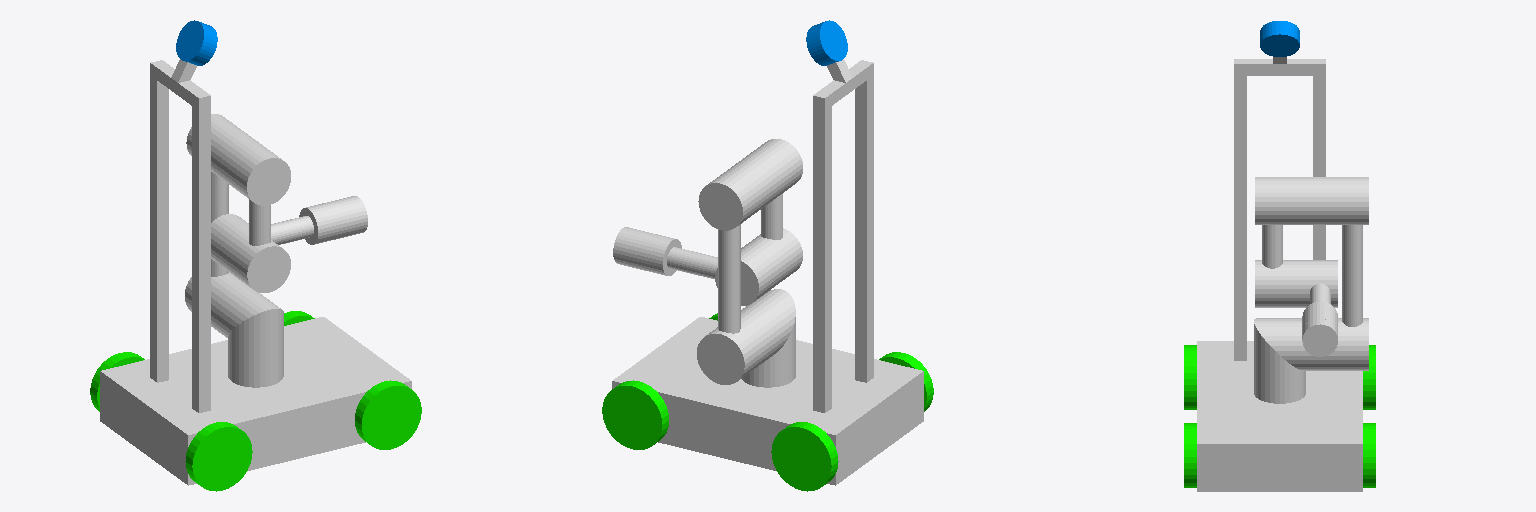
robot.urdf — roam:
<?xml version="1.0"?>
<robot name="roam">

  <material name="white">
    <color rgba="0.9 0.9 0.9 0.7"/>
  </material>

  <material name="blue">
    <color rgba="0 0.6 1 0.7"/>
  </material>

  <material name="red">
    <color rgba="1 0 0 0.7"/>
  </material>
  
  <material name="green">
    <color rgba="0.1 1 0 0.7"/>
  </material>
  
  <material name="black">
    <color rgba="0.05 0.09 0.11 0.7"/>
  </material>
  
  <!-- Base -->

  <link name="base_footprint" />

  <link name="base_link">
  	<inertial>
      <origin xyz="0 0 0.05" rpy="0 0 0" />
      <mass value="5"/>
      <inertia 
      	ixx="0.9013370" 
      	ixy="0.0" 
      	ixz="0.0" 
      	iyy="0.4405845"
      	iyz="0.0" 
      	izz="1.2618254"/>
    </inertial>
    <visual>
      <origin xyz="0 0 0.05" rpy="0 0 0" />
      <geometry>
        <box size="0.371 0.253 0.08" />
      </geometry>
      <material name="white"/>
    </visual>
    <collision>
      <origin xyz="0 0 0.05" rpy="0 0 0" />
      <geometry>
        <box size="0.371 0.371 0.1" />
      </geometry>
      <material name="red"/>
    </collision>
  </link>
  
  <joint name="base_link_joint" type="fixed">
    <parent link="base_footprint"/>
    <child link="base_link"/>
    <origin xyz="0 0 0.05" rpy="0 0 0"/>
  </joint>

  <!-- Ratrig & sensors -->

  <link name="ratrig_link">
    <inertial>
      <origin xyz="0 0 -0.03" rpy="0 0 0" />
      <mass value="0.4"/>
      <inertia 
      	ixx="0.0083467" 
      	ixy="0.0" 
      	ixz="0.0"
      	iyy="0.0006667"
      	iyz="0.0" 
      	izz="0.0089867"/>
    </inertial>
    <visual>
      <origin xyz="0 0 0" rpy="0 0 -1.5707963268" />
      <geometry>
        <mesh filename="package://roam_description/meshes/ratrig.dae"/>
      </geometry>
      <material name="white"/>
    </visual>
    <collision>
      <origin xyz="0 0 -0.03" rpy="0 0 0" />
      <geometry>
        <box size="0.037 0.140 0.537"/> 
      </geometry>
      <material name="red"/>
    </collision>
  </link>
   
  <link name="camera_link">
    <inertial>
      <origin xyz="0 0 0" rpy="0 1.5707963268 0" />
      <mass value="0.095"/>
      <inertia 
      	ixx="0.000027445104167" 
      	ixy="0.0" 
      	ixz="0.0" 
      	iyy="0.000027445104167"
      	iyz="0.0" 
      	izz="0.000044186875"/>
    </inertial>
    <visual>
      <origin xyz="0 0 0" rpy="0 1.5707963268 0" />
      <geometry>
        <cylinder length="0.026" radius="0.0305"/> 
      </geometry>
      <material name="blue"/>
    </visual>
    <collision>
      <origin xyz="0 0 0" rpy="0 1.5707963268 0" />
      <geometry>
        <cylinder length="0.026" radius="0.0305"/> 
      </geometry>
      <material name="red"/>
    </collision>
  </link>

  <link name="kinect_optical_link"/>
  <link name="laser_link"/>
  
  <joint name="ratrig_joint" type="fixed">
    <origin xyz="-0.125 0 0.386" rpy="0 0 0" />
    <parent link="base_link"/>
    <child link="ratrig_link"/>
  </joint>
  
  <joint name="camera_joint" type="fixed">
    <origin xyz="-0.098112 0 0.6405" rpy="0 0.5235987756 0" />
    <parent link="base_link"/>
    <child link="camera_link"/>
  </joint>
  
  <joint name="kinect_optical_joint" type="fixed">
    <axis xyz="0 1 0" />
    <origin xyz="0.0 0.0 0.0" rpy="-1.57 0 -1.57"/>
    <parent link="camera_link"/>
    <child link="kinect_optical_link"/>
  </joint>
  
  <joint name="laser_joint" type="fixed">
<origin xyz="-0.098112 0 0.6405" rpy="0 0 0" />
    <parent link="base_link"/>
    <child link="laser_link"/>
  </joint>
  
  <!-- Wheels -->

  <link name="fl_wheel_link">
    <inertial>
      <origin xyz="0 0 0" rpy="0 0 1.5707963268"/>
      <mass value="0.186"/>
      <inertia 
      	ixx="0.00019384" 
      	ixy="0.0" 
      	ixz="0.0" 
      	iyy="0.00010212"
      	iyz="0.0" 
      	izz="0.00010212"/>
    </inertial>
    <visual>
      <origin xyz="0 0 0" rpy="1.5707963268 0 0"/>
      <geometry>
        <cylinder length="0.02" radius="0.05"/>
      </geometry>
      <material name="green"/>
    </visual>
		<collision>
      <origin xyz="0 0 0" rpy="1.5707963268 0 0"/>
      <geometry>
        <cylinder length="0.02" radius="0.05"/>
      </geometry>
      <material name="green"/>		
		</collision>
  </link>
  
  <link name="fr_wheel_link">
    <inertial>
      <origin xyz="0 0 0" rpy="0 0 -1.5707963268"/>
      <mass value="0.186"/>
      <inertia 
      	ixx="0.00019384" 
      	ixy="0.0" 
      	ixz="0.0" 
      	iyy="0.00010212"
      	iyz="0.0" 
      	izz="0.00010212"/>
    </inertial>
    <visual>
      <origin xyz="0 0 0" rpy="-1.5707963268 0 0"/>
      <geometry>
        <cylinder length="0.02" radius="0.05"/> 
      </geometry>
      <material name="green"/>
    </visual>
		<collision>
		  <origin xyz="0 0 0" rpy="-1.5707963268 0 0"/>
      <geometry>
        <cylinder length="0.02" radius="0.05"/> 
      </geometry>
      <material name="green"/>
		</collision>
  </link>
  
  <link name="bl_wheel_link">
    <inertial>
      <origin xyz="0 0 0" rpy="0 0 1.5707963268"/>
      <mass value="0.186"/>
      <inertia 
      	ixx="0.00019384" 
      	ixy="0.0" 
      	ixz="0.0" 
      	iyy="0.00010212"
      	iyz="0.0" 
      	izz="0.00010212"/>
    </inertial>
    <visual>
      <origin xyz="0 0 0" rpy="1.5707963268 0 0"/>
      <geometry>
        <cylinder length="0.02" radius="0.05"/>
      </geometry>
      <material name="green"/>
    </visual>
    <collision>
      <origin xyz="0 0 0" rpy="1.5707963268 0 0"/>
      <geometry>
        <cylinder length="0.02" radius="0.05"/>
      </geometry>
      <material name="green"/>
  	</collision>
  </link>
  
  <link name="br_wheel_link">
    <inertial>
      <origin xyz="0 0 0" rpy="0 0 -1.5707963268"/>
      <mass value="0.186"/>
      <inertia 
      	ixx="0.00019384" 
      	ixy="0.0" 
      	ixz="0.0" 
      	iyy="0.00010212"
      	iyz="0.0" 
      	izz="0.00010212"/>
    </inertial>
    <visual>
      <origin xyz="0 0 0" rpy="-1.5707963268 0 0"/>
      <geometry>
        <cylinder length="0.02" radius="0.05"/> 
      </geometry>
      <material name="green"/>
    </visual>
    <collision>
      <origin xyz="0 0 0" rpy="-1.5707963268 0 0"/>
      <geometry>
        <cylinder length="0.02" radius="0.05"/> 
      </geometry>
      <material name="green"/>    
    </collision>
  </link>
  
  <joint name="fl_wheel_joint" type="continuous">
	  <parent link="base_link"/>
	  <child link="fl_wheel_link"/>
	  <origin xyz="0.1405 -0.137 0.05" rpy="0 0 0"/>
	  <axis xyz="0 1 0"/>
	  <dynamics damping="0.0" friction="0.2"/>
	</joint>
  
  <joint name="fr_wheel_joint" type="continuous">
    <parent link="base_link"/>
    <child link="fr_wheel_link"/>
    <origin xyz="0.1405 0.137 0.05" rpy="0 0 0"/>
    <axis xyz="0 1 0"/>
    <dynamics damping="0.0" friction="0.2"/>
  </joint>
  
  <joint name="bl_wheel_joint" type="continuous">
    <parent link="base_link"/>
    <child link="bl_wheel_link"/>
    <origin xyz="-0.1405 -0.137 0.05" rpy="0 0 0"/>
    <axis xyz="0 1 0"/>
    <dynamics damping="0.0" friction="0.2"/>
  </joint>
  
  <joint name="br_wheel_joint" type="continuous">
    <parent link="base_link"/>
    <child link="br_wheel_link"/>
    <origin xyz="-0.1405 0.137 0.05" rpy="0 0 0"/>
    <axis xyz="0 1 0"/>
    <dynamics damping="0.0" friction="0.2"/>
  </joint>
  
  <!-- Arm and eef -->

  <link name="link_1">
  	<inertial>
      <origin xyz="-0.023 0 -0.02702" rpy="0 0 0" />
      <mass value="0.01817737692596768"/>
      <inertia 
      	ixx="0.0117337" 
      	ixy="0.0" 
      	ixz="0.0024952" 
      	iyy="0.0177397"
      	iyz="0.0" 
      	izz="0.0126389"/>
    </inertial>
    <visual>
      <origin xyz="0 0 0" rpy="0 0 0" />
      <geometry>
        <mesh filename="package://roam_description/meshes/link_1.dae"/>
      </geometry>
      <material name="white"/>
    </visual>
    <collision>
      <origin xyz="-0.023 0 -0.02702" rpy="0 0 0" />
      <geometry>
        <box size="0.126 0.08 0.121" />
      </geometry>
      <material name="red"/>
    </collision>
  </link>
  
  <link name="link_2">
    <inertial>
      <origin xyz="0 0 0.12" rpy="0 0 0" />
      <mass value="0.015678316422397593"/>
      <inertia 
      	ixx="0.0741795" 
      	ixy="0.0" 
      	ixz="0.0" 
      	iyy="0.0734247"
      	iyz="0.0" 
      	izz="0.0028546"/>
    </inertial>
    <visual>
      <origin xyz="0.111 0 0" rpy="0 0 0" />
      <geometry>
        <mesh filename="package://roam_description/meshes/link_2.dae"/>
      </geometry>
      <material name="white"/>
    </visual>
    <collision>
      <origin xyz="-0.01 0 0.12" rpy="0 0 0" />
      <geometry>
        <box size="0.04 0.08 0.319" />
      </geometry>
      <material name="red"/>
    </collision>
  </link>
  
  <link name="link_3">
    <inertial>
      <origin xyz="0.0869705 0 -0.06985" rpy="0 0 0" />
      <mass value="0.0023307027433295753"/>
      <inertia 
      	ixx="0.0435278" 
      	ixy="0.0" 
      	ixz="0.0071291" 
      	iyy="0.0504512"
      	iyz="0.0" 
      	izz="0.0126002"/>
    </inertial>  
    <visual>
      <origin xyz="0.111 0 -0.242" rpy="0 0 0" />
      <geometry>
        <mesh filename="package://roam_description/meshes/link_3.dae"/>
      </geometry>
      <material name="white"/>
    </visual>
    <collision>
      <origin xyz="0.0869705 0 -0.06985" rpy="0 0 0" />
      <geometry>
        <box size="0.124 0.074 0.213" />
      </geometry>
      <material name="red"/>
    </collision>
  </link>
  
  <link name="link_4">
    <inertial>
      <origin xyz="0 0.07549 0" rpy="0 0 0" />
      <mass value="0.0011574596016535137"/>
      <inertia 
      	ixx="0.0239387" 
      	ixy="-0.0000515" 
      	ixz="0.0" 
      	iyy="0.0019283"
      	iyz="0.0" 
      	izz="0.0237407"/>
    </inertial>  
    <visual>
      <origin xyz="0 0.11513 0" rpy="0 0 0" />
      <geometry>
          <mesh filename="package://roam_description/meshes/link_4.dae"/>
      </geometry>
      <material name="white"/>
    </visual>
    <collision>
      <origin xyz="0 0.07549 0" rpy="0 0 0" />
      <geometry>
        <box size="0.055 0.222 0.073" />
      </geometry>
      <material name="red"/>
    </collision>
  </link>
  
  <link name="link_5">
    <inertial>
      <origin xyz="0 0 0" rpy="1.5708 0 0" />
      <mass value="0.0001262683201803833"/>
      <inertia 
      	ixx="0.0001088" 
      	ixy="0.0" 
      	ixz="0.0" 
      	iyy="0.0001822"
      	iyz="0.0" 
      	izz="0.0001088"/>
    </inertial>  
    <visual>
      <origin xyz="0 0 0" rpy="1.5708 0 0" />
      <geometry>
        <cylinder length="0.0208" radius="0.0274"/>
      </geometry>
      <material name="white"/>
    </visual>
    <collision>
      <origin xyz="0 0 0" rpy="1.5708 0 0" />
      <geometry>
        <cylinder length="0.0208" radius="0.0274"/>
      </geometry>
      <material name="red"/>
    </collision>
  </link>
  
  <link name="link_6">
  	<inertial>
      <origin xyz="0 0 0" rpy="0 0 0" />
      <mass value="0.0001"/>
      <inertia 
      	ixx="0.0" 
      	ixy="0.0" 
      	ixz="0.0" 
      	iyy="0.0"
      	iyz="0.0" 
      	izz="0.0"/>
    </inertial>  
  </link>
  
  <link name="link_7">
  	<inertial>
      <origin xyz="0 0 0" rpy="0 0 0" />
      <mass value="0.0001"/>
      <inertia 
      	ixx="0.0" 
      	ixy="0.0" 
      	ixz="0.0" 
      	iyy="0.0"
      	iyz="0.0" 
      	izz="0.0"/>
    </inertial>  
  </link>
  
	<joint name="link_1_joint" type="revolute">
		<parent link="base_link"/>
		<child link="link_1"/>
		<origin xyz="0 0 0.17108" rpy="0 0 -1.5708"/>
		<limit lower="-2.35" upper="0.45" effort="10" velocity="3"/>
		<axis xyz="0 0 1"/>
		<dynamics damping="0.7" friction="0.2"/>
	</joint>

	<joint name="link_2_joint" type="revolute">
		<parent link="link_1"/>
		<child link="link_2"/>
		<origin xyz="-0.111 0 0" rpy="0 0 0"/>
		<limit lower="-1.5708" upper="0.261799" effort="10" velocity="3"/>
		<axis xyz="1 0 0"/>
		<dynamics damping="0.7" friction="0.2"/>
	</joint>  

	<joint name="link_3_joint" type="revolute">
		<parent link="link_2"/>
		<child link="link_3"/>
		<origin xyz="0 0 0.242" rpy="0 0 0"/>
		<limit lower="-0.4" upper="3.1415" effort="10" velocity="3"/>
		<axis xyz="1 0 0"/>
		<dynamics damping="0.7" friction="0.2"/>
	</joint>  

	<joint name="link_4_joint" type="revolute">
		<parent link="link_3"/>
		<child link="link_4"/>
		<origin xyz="0.0495 0 -0.13949" rpy="0 0 0"/>
		<limit lower="-3.1415" upper="1" effort="10" velocity="3"/>
		<axis xyz="1 0 0"/>
		<dynamics damping="0.7" friction="0.2"/>
	</joint>  
	
	<joint name="link_5_joint" type="revolute">
		<parent link="link_4"/>
		<child link="link_5"/>
		<origin xyz="0 0.19542 0" rpy="0 0 0"/>
		<limit lower="-3.1" upper="3.1" effort="10" velocity="3"/>
		<axis xyz="0 1 0"/>
		<dynamics damping="0.7" friction="0.2"/>
	</joint>  

	<joint name="link_6_joint" type="continuous">
		<parent link="link_5"/>
		<child link="link_6"/>
		<origin xyz="0 0 0" rpy="0 0 0"/>
		<axis xyz="0 0 1"/>
	</joint>
	
	<joint name="link_7_joint" type="continuous">
		<parent link="link_6"/>
		<child link="link_7"/>
		<origin xyz="0 0 0" rpy="0 0 0"/>
		<axis xyz="1 0 0"/>
	</joint>

	<!-- Tbh, i dont have a clue whats going on here -->

	<transmission name="link_1_transmission">
		  <type>transmission_interface/SimpleTransmission</type>
		  <joint name="link_1_joint">
		      <hardwareInterface>hardware_interface/EffortJointInterface</hardwareInterface>
		  </joint>
		  <actuator name="link_1_motor">
		      <hardwareInterface>hardware_interface/EffortJointInterface</hardwareInterface>
		      <mechanicalReduction>9</mechanicalReduction>
		  </actuator>
	</transmission>
	
	<transmission name="link_2_transmission">
		  <type>transmission_interface/SimpleTransmission</type>
		  <joint name="link_2_joint">
		      <hardwareInterface>hardware_interface/EffortJointInterface</hardwareInterface>
		  </joint>
		  <actuator name="link_2_motor">
		      <hardwareInterface>hardware_interface/EffortJointInterface</hardwareInterface>
		      <mechanicalReduction>86</mechanicalReduction>
		  </actuator>
	</transmission>
	
	<transmission name="link_3_transmission">
		  <type>transmission_interface/SimpleTransmission</type>
		  <joint name="link_3_joint">
		      <hardwareInterface>hardware_interface/EffortJointInterface</hardwareInterface>
		  </joint>
		  <actuator name="link_3_motor">
		      <hardwareInterface>hardware_interface/EffortJointInterface</hardwareInterface>
		      <mechanicalReduction>50</mechanicalReduction>
		  </actuator>
	</transmission>
	
	<transmission name="link_4_transmission">
	  <type>transmission_interface/SimpleTransmission</type>
		  <joint name="link_4_joint">
	      <hardwareInterface>hardware_interface/EffortJointInterface</hardwareInterface>
		  </joint>
	  <actuator name="link_4_motor">
      <hardwareInterface>hardware_interface/EffortJointInterface</hardwareInterface>
      <mechanicalReduction>50</mechanicalReduction>
	  </actuator>
	</transmission>
	
	<transmission name="link_5_transmission">
	  <type>transmission_interface/SimpleTransmission</type>
	  <joint name="link_5_joint">
      <hardwareInterface>hardware_interface/EffortJointInterface</hardwareInterface>
	  </joint>
	  <actuator name="link_5_motor">
	    <hardwareInterface>hardware_interface/EffortJointInterface</hardwareInterface>
	    <mechanicalReduction>86</mechanicalReduction>
	  </actuator>
	</transmission>
	
	<transmission name="link_6_transmission">
	  <type>transmission_interface/SimpleTransmission</type>
	  <joint name="link_6_joint">
      <hardwareInterface>hardware_interface/EffortJointInterface</hardwareInterface>
	  </joint>
	  <actuator name="link_6_motor">
	    <hardwareInterface>hardware_interface/EffortJointInterface</hardwareInterface>
	    <mechanicalReduction>1</mechanicalReduction>
	  </actuator>
	</transmission>
	
	<transmission name="link_7_transmission">
	  <type>transmission_interface/SimpleTransmission</type>
	  <joint name="link_7_joint">
      <hardwareInterface>hardware_interface/EffortJointInterface</hardwareInterface>
	  </joint>
	  <actuator name="link_7_motor">
	    <hardwareInterface>hardware_interface/EffortJointInterface</hardwareInterface>
	    <mechanicalReduction>1</mechanicalReduction>
	  </actuator>
	</transmission>
	
	<transmission name="fl_wheel_transmission">
		<type>transmission_interface/SimpleTransmission</type>
			<joint name="fl_wheel_joint">
				<hardwareInterface>hardware_interface/EffortJointInterface</hardwareInterface>
			</joint>
		<actuator name="fl_wheel_motor">
			<hardwareInterface>hardware_interface/EffortJointInterface</hardwareInterface>
			<mechanicalReduction>56</mechanicalReduction>
		</actuator>
	</transmission>

	<transmission name="fr_wheel_transmission">
		<type>transmission_interface/SimpleTransmission</type>
		<joint name="fr_wheel_joint">
			<hardwareInterface>hardware_interface/EffortJointInterface</hardwareInterface>
		</joint>
		<actuator name="fr_wheel_motor">
			<hardwareInterface>hardware_interface/EffortJointInterface</hardwareInterface>
			<mechanicalReduction>56</mechanicalReduction>
		</actuator>
	</transmission>

	<transmission name="bl_wheel_transmission">
		<type>transmission_interface/SimpleTransmission</type>
			<joint name="bl_wheel_joint">
				<hardwareInterface>hardware_interface/EffortJointInterface</hardwareInterface>
			</joint>
		<actuator name="bl_wheel_motor">
			<hardwareInterface>hardware_interface/EffortJointInterface</hardwareInterface>
			<mechanicalReduction>56</mechanicalReduction>
		</actuator>
	</transmission>

	<transmission name="br_wheel_transmission">
		<type>transmission_interface/SimpleTransmission</type>
			<joint name="br_wheel_joint">
				<hardwareInterface>hardware_interface/EffortJointInterface</hardwareInterface>
			</joint>
		<actuator name="br_wheel_motor">
			<hardwareInterface>hardware_interface/EffortJointInterface</hardwareInterface>
			<mechanicalReduction>56</mechanicalReduction>
		</actuator>
	</transmission>

<gazebo> 
	<plugin name="gazebo_ros_control" filename="libgazebo_ros_control.so"/>
	<plugin name="object_controller" filename="libgazebo_ros_planar_move.so">
		<commandTopic>cmd_vel</commandTopic>
		<odometryTopic>odom</odometryTopic>
		<odometryFrame>odom</odometryFrame>
		<odometryRate>60</odometryRate>
		<robotBaseFrame>base_footprint</robotBaseFrame>
	</plugin>
</gazebo>
	
  <gazebo reference="imu_link">
    <plugin name="imu_plugin" filename="libgazebo_ros_imu.so">
      <alwaysOn>true</alwaysOn>
      <bodyName>base_footprint</bodyName>
      <topicName>odom</topicName>
      <serviceName>imu_service</serviceName>
      <gaussianNoise>0</gaussianNoise>
      <updateRate>60</updateRate>
    </plugin>
  </gazebo>
  
   <gazebo reference="camera_link">
    <sensor name="depth_camera" type="depth">
      <update_rate>15</update_rate>
      <camera>
        <horizontal_fov>1.22173</horizontal_fov>
        <image>
          <width>1024</width>
          <height>768</height>
          <format>R8G8B8</format>
        </image>
        <clip>
          <near>0.01</near>
          <far>5</far>
        </clip>
      </camera>
      <plugin name="depth_controller" filename="libgazebo_ros_openni_kinect.so">
        <baseline>0.2</baseline>
        <alwaysOn>true</alwaysOn>
        <updateRate>0</updateRate>
        <cameraName>realsense_ir</cameraName>
        <imageTopicName>/realsense/color/image_raw</imageTopicName>
        <cameraInfoTopicName>/realsense/color/camera_info</cameraInfoTopicName>
        <depthImageTopicName>/realsense/depth/image_raw</depthImageTopicName>
        <depthImageInfoTopicName>/realsense/depth/camera_info</depthImageInfoTopicName>
        <pointCloudTopicName>/realsense/depth/points</pointCloudTopicName>
        <frameName>kinect_optical_link</frameName>
        <pointCloudCutoff>0.25</pointCloudCutoff>
        <pointCloudCutoffMax>5</pointCloudCutoffMax>
        <distortionK1>0.00000001</distortionK1>
        <distortionK2>0.00000001</distortionK2>
        <distortionK3>0.00000001</distortionK3>
        <distortionT1>0.00000001</distortionT1>
        <distortionT2>0.00000001</distortionT2>
        <CxPrime>0</CxPrime>
        <Cx>0</Cx>
        <Cy>0</Cy>
        <focalLength>0</focalLength>
        <hackBaseline>0</hackBaseline>
      </plugin>
    </sensor>
  </gazebo>
  
  <gazebo reference="laser_link">
    <sensor type="ray" name="head_hokuyo_sensor">
      <pose>0 0 0 0 0 0</pose>
      <visualize>true</visualize>
      <update_rate>60</update_rate>
      <ray>
        <scan>
          <horizontal>
            <samples>128</samples>
            <resolution>1</resolution>
            <min_angle>-0.610865238</min_angle>
            <max_angle>0.610865238</max_angle>
          </horizontal>
        </scan>
        <range>
          <min>0.25</min>
          <max>9</max>
          <resolution>0.01</resolution>
        </range>
        <noise>
          <type>gaussian</type>
          <!-- Noise parameters based on published spec for Hokuyo laser
               achieving "+-30mm" accuracy at range < 10m.  A mean of 0.0m and
               stddev of 0.01m will put 99.7% of samples within 0.03m of the true
               reading. -->
          <mean>0.0</mean>
          <stddev>0.01</stddev>
        </noise>
      </ray>
      <plugin name="gazebo_ros_head_hokuyo_controller" filename="libgazebo_ros_laser.so">
        <topicName>/roam/laser/scan</topicName>
        <frameName>laser_link</frameName>
      </plugin>
    </sensor>
  </gazebo>
  
  <gazebo reference="fl_wheel_link">
    <mu1>0.2</mu1>
    <mu2>0.2</mu2>
    <self_collide>1</self_collide>
    <turnGravityOff>true</turnGravityOff>
    <material>Gazebo/Green</material>
  </gazebo>
  <gazebo reference="fr_wheel_link">
    <mu1>0.2</mu1>
    <mu2>0.2</mu2>
    <self_collide>1</self_collide>
    <turnGravityOff>true</turnGravityOff>
    <material>Gazebo/Green</material>
  </gazebo>
  <gazebo reference="bl_wheel_link">
    <mu1>0.2</mu1>
    <mu2>0.2</mu2>
    <self_collide>1</self_collide>
    <turnGravityOff>true</turnGravityOff>
    <material>Gazebo/Green</material>
  </gazebo>
  <gazebo reference="br_wheel_link">
    <mu1>0.2</mu1>
    <mu2>0.2</mu2>
    <self_collide>1</self_collide>
    <turnGravityOff>true</turnGravityOff>
    <material>Gazebo/Green</material>
  </gazebo>
  
  <gazebo reference="base_link">
    <material>Gazebo/DarkGrey</material>
  </gazebo>	
  <gazebo reference="ratrig_link">
    <material>Gazebo/Grey</material>
  </gazebo>	
  
	<gazebo reference="link_1">
    <mu1>0.2</mu1>
    <mu2>0.2</mu2>
    <self_collide>1</self_collide>
    <turnGravityOff>true</turnGravityOff>
    <material>Gazebo/DarkGrey</material>
  </gazebo>
  <gazebo reference="link_2">
    <mu1>0.2</mu1>
    <mu2>0.2</mu2>
    <self_collide>1</self_collide>
    <turnGravityOff>true</turnGravityOff>
    <material>Gazebo/DarkGrey</material>
  </gazebo>
  <gazebo reference="link_3">
    <mu1>0.2</mu1>
    <mu2>0.2</mu2>
    <self_collide>1</self_collide>
    <turnGravityOff>true</turnGravityOff>
    <material>Gazebo/DarkGrey</material>
  </gazebo>
  <gazebo reference="link_4">
    <mu1>0.2</mu1>
    <mu2>0.2</mu2>
    <self_collide>1</self_collide>
    <turnGravityOff>true</turnGravityOff>
    <material>Gazebo/DarkGrey</material>
  </gazebo>
  <gazebo reference="link_5">
    <mu1>0.2</mu1>
    <mu2>0.2</mu2>
    <self_collide>1</self_collide>
    <turnGravityOff>true</turnGravityOff>
    <material>Gazebo/DarkGrey</material>
  </gazebo>
  
</robot>

--- Render facts (derived) ---
The picture shows the robot from 3 angles, left to right: view 1: azimuth 30°, elevation 25°; view 2: azimuth 150°, elevation 25°; view 3: azimuth 270°, elevation 25°; orthographic projection.
Robot: roam — 17 links, 16 joints (5 revolute, 6 continuous, 5 fixed); root link base_footprint; default pose: every joint at zero.
Links seen in each view (by area): view 1: base_link, ratrig_link, link_3, link_1, link_4, fl_wheel_link, bl_wheel_link, link_2, camera_link, br_wheel_link; view 2: base_link, ratrig_link, link_2, link_3, link_4, link_1, fr_wheel_link, br_wheel_link, camera_link, bl_wheel_link; view 3: base_link, ratrig_link, link_3, link_2, link_1, link_4, camera_link, link_5, fl_wheel_link, fr_wheel_link, bl_wheel_link, br_wheel_link.
Boxes of the visible links, x1=… form: base_link: x1=100, y1=317, x2=411, y2=485; ratrig_link: x1=150, y1=59, x2=210, y2=412; link_3: x1=211, y1=126, x2=290, y2=292; link_1: x1=211, y1=277, x2=283, y2=387; link_4: x1=211, y1=199, x2=355, y2=269; fl_wheel_link: x1=355, y1=380, x2=421, y2=449; bl_wheel_link: x1=185, y1=422, x2=252, y2=491; link_2: x1=185, y1=114, x2=239, y2=311; camera_link: x1=176, y1=20, x2=217, y2=65; br_wheel_link: x1=90, y1=352, x2=144, y2=411; base_link: x1=612, y1=317, x2=923, y2=485; ratrig_link: x1=813, y1=59, x2=873, y2=412; link_2: x1=697, y1=170, x2=761, y2=384; link_3: x1=727, y1=139, x2=802, y2=287; link_4: x1=626, y1=230, x2=777, y2=305; link_1: x1=741, y1=289, x2=795, y2=387; fr_wheel_link: x1=602, y1=380, x2=668, y2=449; br_wheel_link: x1=771, y1=422, x2=838, y2=491; camera_link: x1=806, y1=20, x2=847, y2=65; bl_wheel_link: x1=879, y1=352, x2=933, y2=411; base_link: x1=1197, y1=341, x2=1362, y2=491; ratrig_link: x1=1234, y1=57, x2=1325, y2=360; link_3: x1=1255, y1=177, x2=1335, y2=307; link_2: x1=1336, y1=177, x2=1368, y2=370; link_1: x1=1254, y1=318, x2=1335, y2=403; link_4: x1=1302, y1=260, x2=1337, y2=332; camera_link: x1=1260, y1=21, x2=1299, y2=56; link_5: x1=1302, y1=319, x2=1337, y2=356; fl_wheel_link: x1=1184, y1=423, x2=1196, y2=487; fr_wheel_link: x1=1363, y1=423, x2=1375, y2=487; bl_wheel_link: x1=1184, y1=345, x2=1196, y2=409; br_wheel_link: x1=1363, y1=345, x2=1375, y2=409.
Size in the robot's own frame: 0.3963 by 0.294 by 0.6734 metres.
Meshes: 5 distinct files referenced, 5 mesh visuals loaded (5 Collada DAE).
